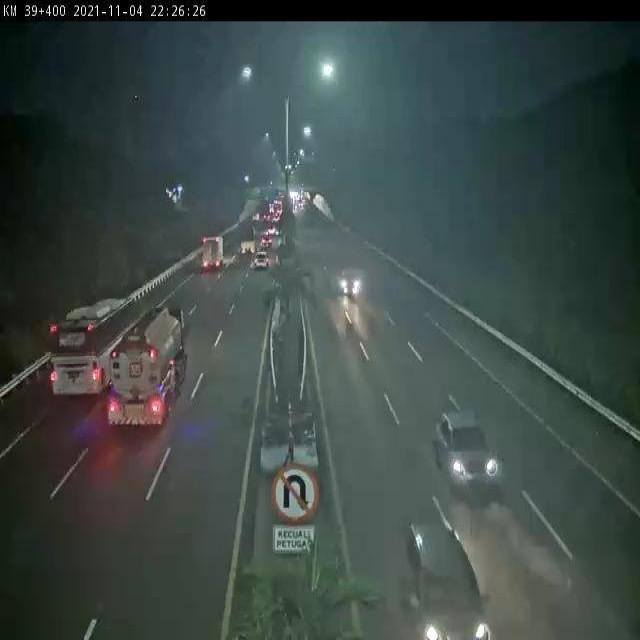bus-l-: (51, 296, 102, 405)
car: (404, 520, 491, 640), (435, 409, 503, 499), (338, 266, 363, 298), (255, 252, 268, 269)
truck-l-: (203, 236, 224, 268)
truck-m-: (241, 228, 256, 255)
truck-xl-: (110, 303, 187, 427)
